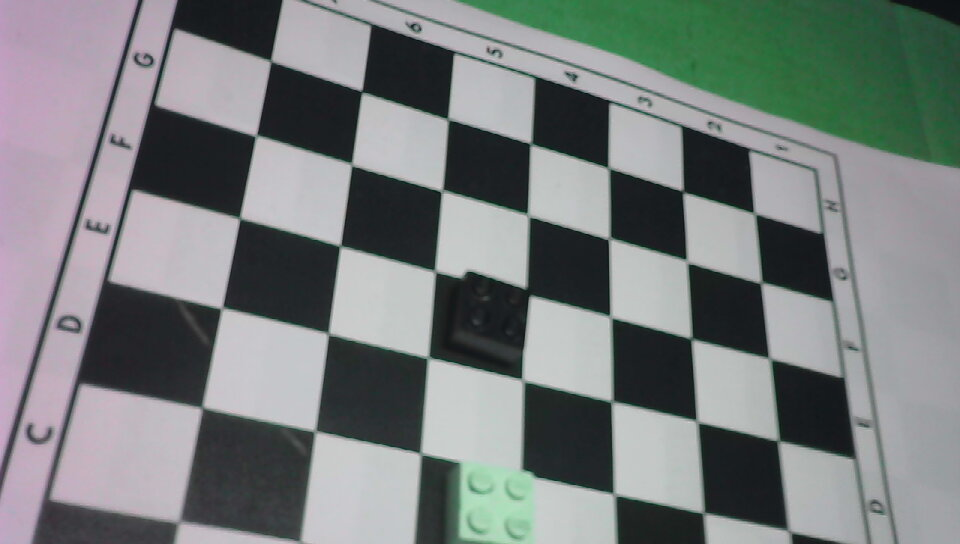bp: (447, 266, 536, 370)
